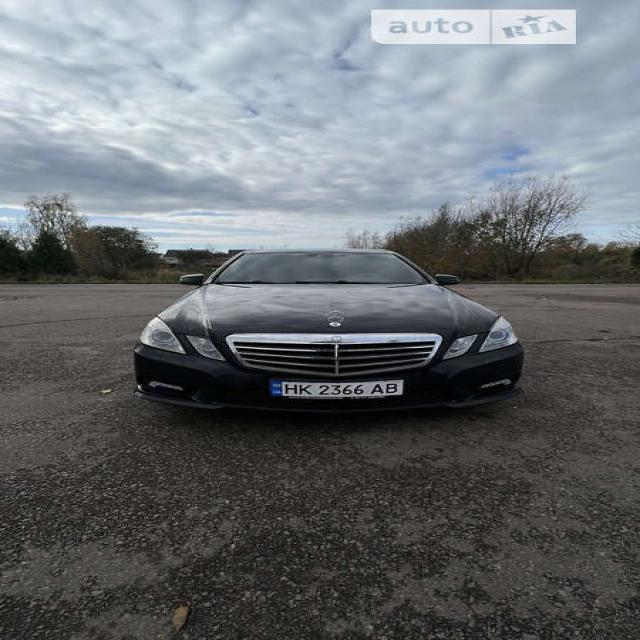plate: (262, 369, 423, 413)
